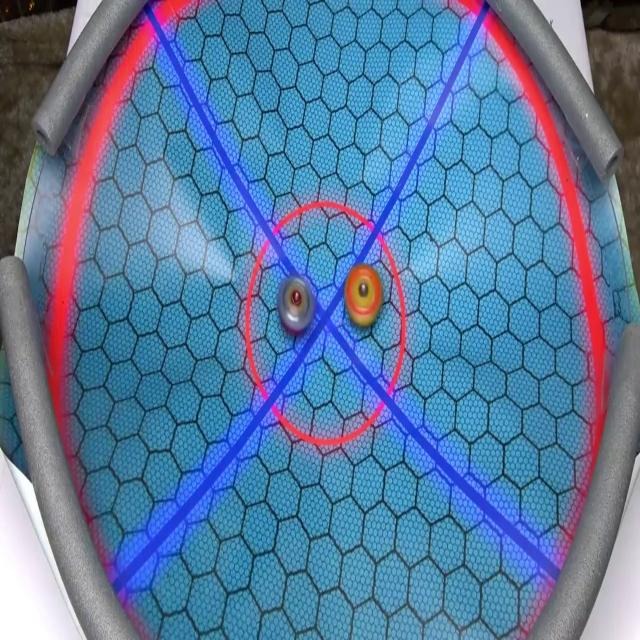0: (345, 255, 383, 334), (278, 266, 314, 340)
objects: (278, 266, 314, 348)
